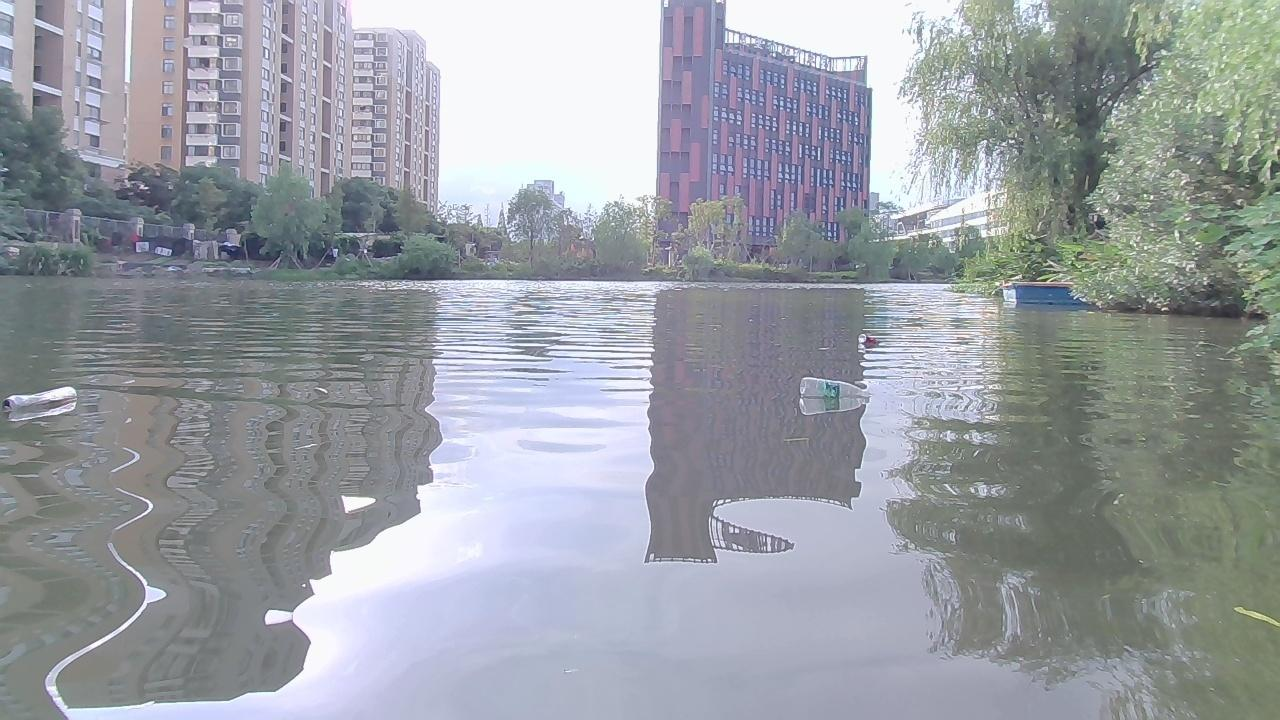bottle: (794, 375, 877, 404), (0, 383, 76, 411), (859, 333, 882, 354)
